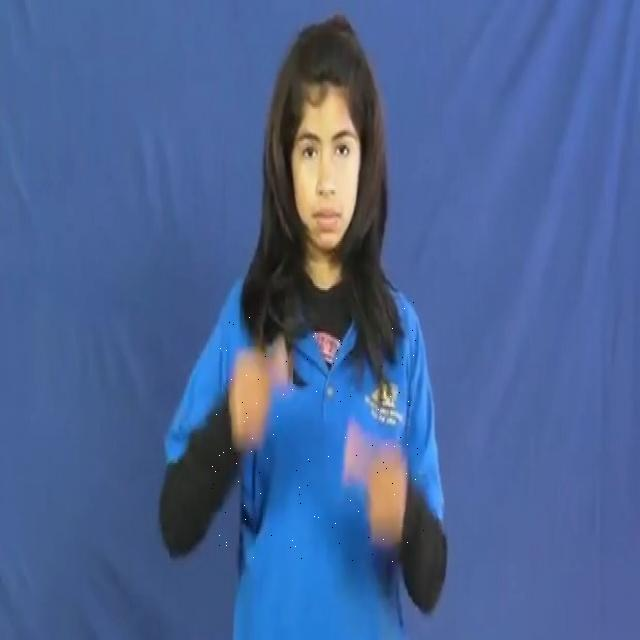pickle: (210, 302, 424, 564)
